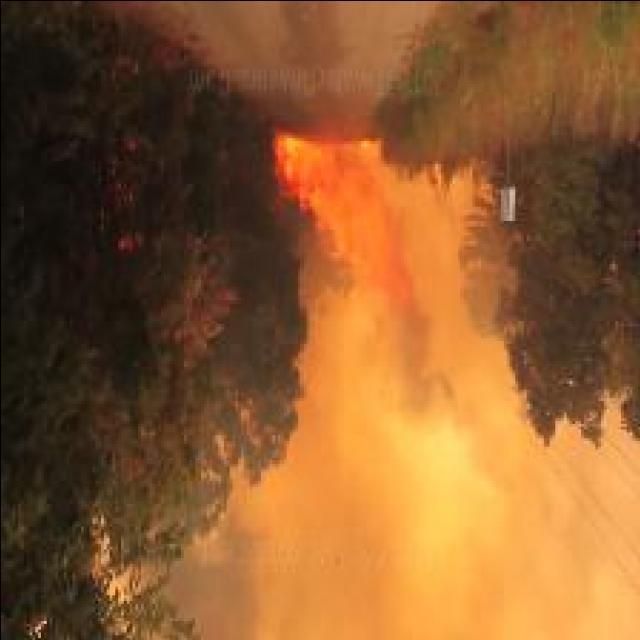Fire: (272, 127, 418, 310)
